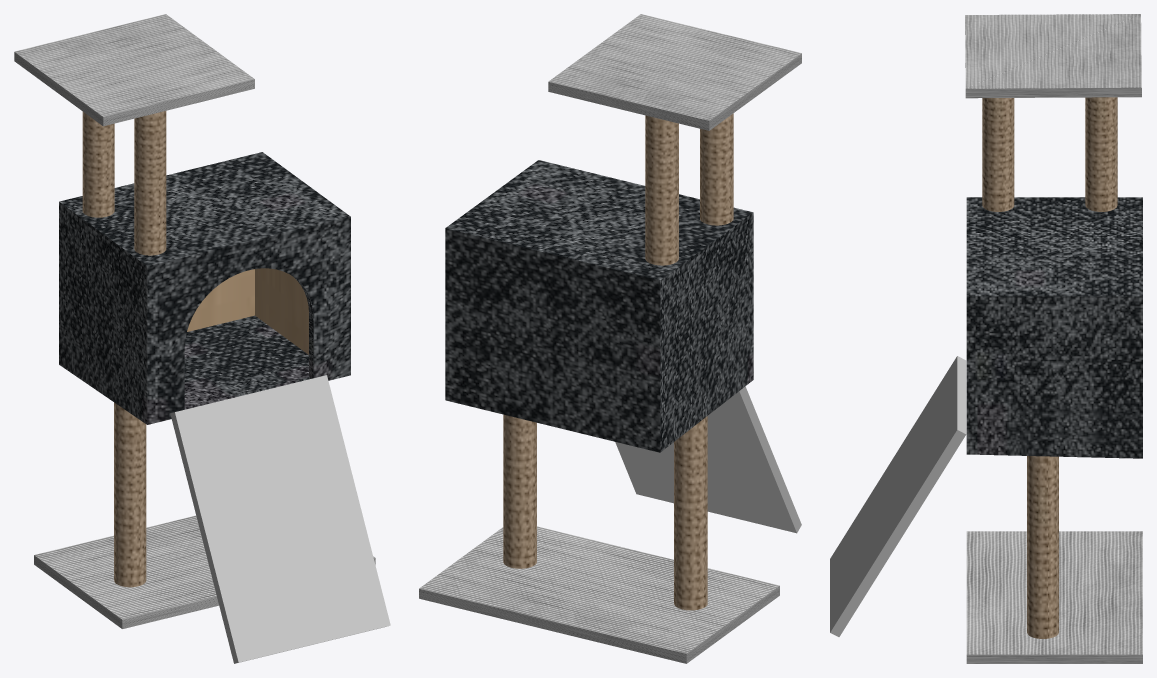
File: CatHouse2.fbx
3 views of the same model, side by side, from view 1: azimuth 30°, elevation 25°; view 2: azimuth 150°, elevation 25°; view 3: azimuth 270°, elevation 25° (orthographic). The views are drawn at different scales.
Parts seen in each view (by area): view 1: pCube7, pCube2, pCube3, polySurface1, pasted__pCube2, pCube12, pCylinder1, pCylinder3, pasted__pCylinder3; view 2: pCube7, polySurface1, pasted__pCube2, pCube3, pCube2, pCylinder1, pasted__pCylinder1, pasted__pCylinder3, pCylinder3; view 3: pCube7, pasted__pCube2, pCube3, pCube2, pasted__pCylinder1, pasted__pCylinder3, pCylinder3.
Boxes of the visible parts, x1,y1,x2,y2 form: pCube7: (59, 152, 350, 424); pCube2: (170, 375, 390, 663); pCube3: (14, 14, 254, 126); polySurface1: (59, 152, 350, 422); pasted__pCube2: (34, 515, 375, 628); pCube12: (187, 268, 308, 354); pCylinder1: (114, 402, 146, 587); pCylinder3: (134, 111, 166, 255); pasted__pCylinder3: (82, 111, 114, 217); pCube7: (445, 160, 753, 452); polySurface1: (445, 160, 753, 448); pasted__pCube2: (419, 526, 779, 663); pCube3: (548, 14, 801, 130); pCube2: (615, 386, 801, 533); pCylinder1: (674, 416, 707, 610); pasted__pCylinder1: (503, 414, 536, 568); pasted__pCylinder3: (645, 115, 678, 265); pCylinder3: (700, 113, 733, 225); pCube7: (966, 197, 1142, 458); pasted__pCube2: (966, 531, 1142, 663); pCube3: (965, 14, 1141, 98); pCube2: (830, 356, 966, 636); pasted__pCylinder1: (1027, 456, 1058, 638); pasted__pCylinder3: (1085, 97, 1117, 211); pCylinder3: (982, 98, 1014, 211).
Bounding box in the file's own units: 7.09 × 12.83 × 7.03.
